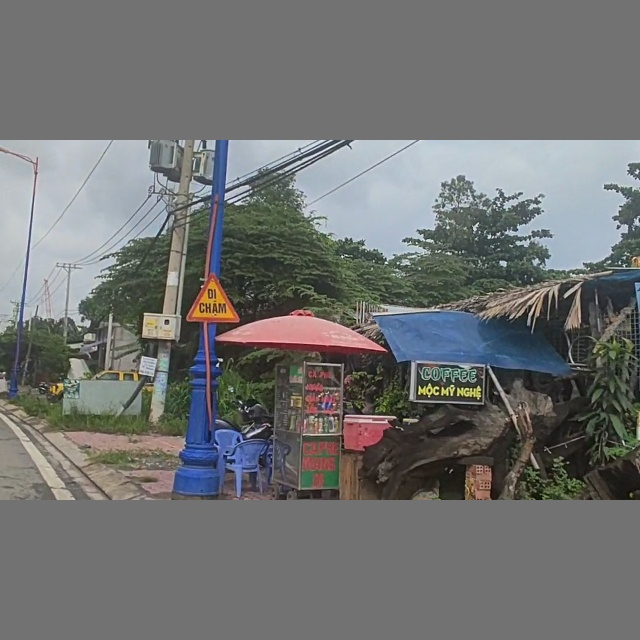W.245a: (184, 272, 243, 325)
